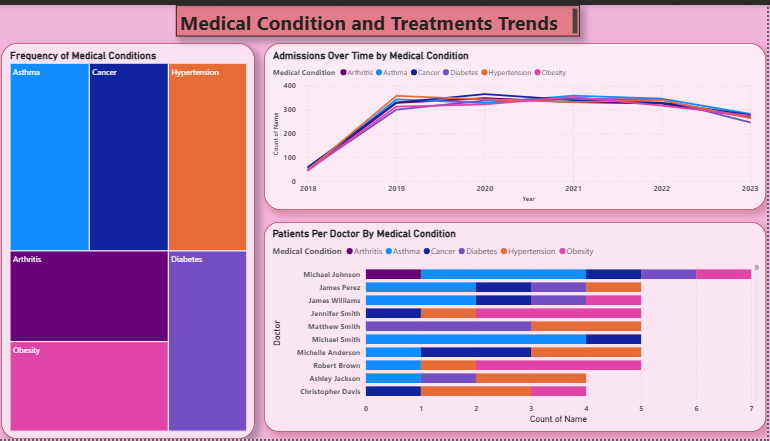

What the dashboard file says about the page in this screenshot:
{"tool":"powerbi","page":{"name":"Medical Condition and Treatments Section","canvas":[1280,720],"ordinal":1},"visuals":[{"type":"treemap","title":"Frequency of Medical Conditions","fields":{"Group":["healthcare_dataset1.Medical Condition"],"Values":["CountNonNull(healthcare_dataset1.Name)"]},"box":[9.7,63.1,420.7,656.9],"z":0},{"type":"barChart","title":"Patients Per Doctor By Medical Condition","fields":{"Category":["healthcare_dataset1.Doctor"],"Series":["healthcare_dataset1.Medical Condition"],"Y":["CountNonNull(healthcare_dataset1.Name)"]},"box":[446.6,360.8,833.3,347.9],"z":1000},{"type":"lineChart","title":"Admissions Over Time by Medical Condition","fields":{"Category":["healthcare_dataset1.Date of Admission.Variation.Date Hierarchy.Year","healthcare_dataset1.Date of Admission.Variation.Date Hierarchy.Quarter","healthcare_dataset1.Date of Admission.Variation.Date Hierarchy.Month","healthcare_dataset1.Date of Admission.Variation.Date Hierarchy.Day"],"Series":["healthcare_dataset1.Medical Condition"],"Y":["CountNonNull(healthcare_dataset1.Name)"]},"box":[446.6,63.1,833.3,276.7],"z":2000},{"type":"textbox","box":[300.9,0,669.8,51.8],"z":3000}]}

Visuals, with their boxes in screenshot pixels (x1, y1, x2, y2), scaled from the page's 1280x720 canvas onto the 770x441 screenshot:
"Frequency of Medical Conditions" treemap: left=6, top=39, right=259, bottom=440
"Patients Per Doctor By Medical Condition" barChart: left=269, top=221, right=769, bottom=434
"Admissions Over Time by Medical Condition" lineChart: left=269, top=39, right=769, bottom=208
textbox: left=181, top=0, right=584, bottom=32
